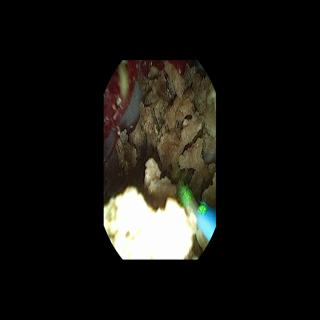fiber: (198, 203, 214, 240)
laser: (180, 186, 191, 204), (199, 206, 205, 213)
stone: (116, 64, 215, 213)
